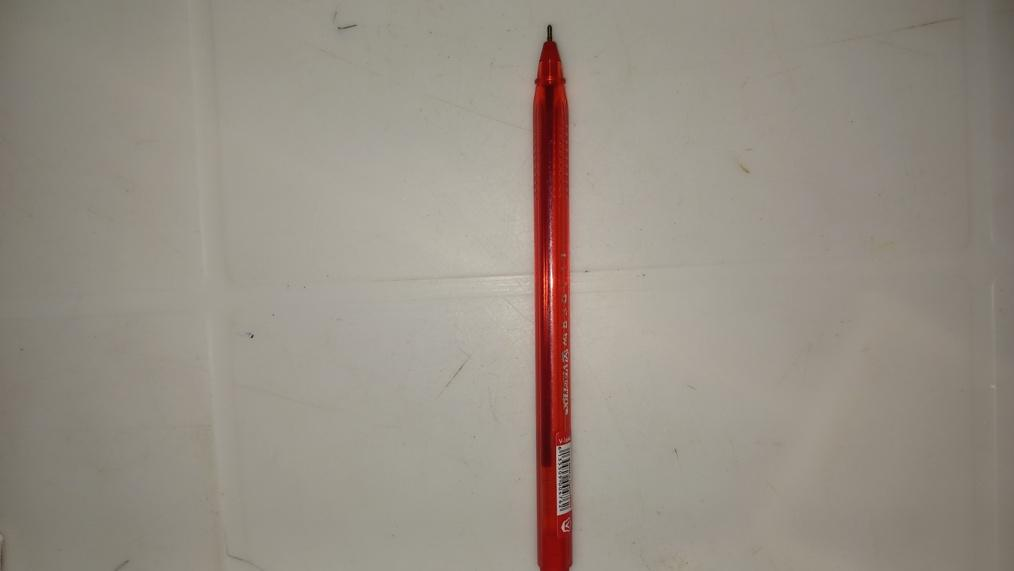pen: (534, 19, 568, 571)
